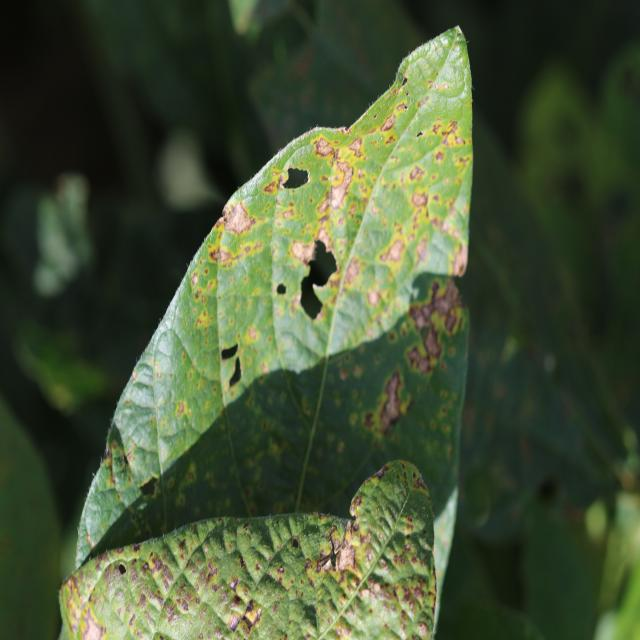Bacterial_Blight: (371, 571, 429, 618), (415, 389, 458, 445), (376, 369, 409, 435), (429, 278, 463, 323), (229, 595, 264, 636), (381, 225, 408, 275), (171, 459, 200, 505), (406, 337, 437, 378), (329, 161, 354, 208), (222, 200, 254, 235), (77, 604, 106, 640), (146, 554, 174, 591), (429, 187, 458, 222), (291, 237, 318, 266), (104, 446, 122, 488), (438, 122, 466, 148), (450, 242, 468, 277), (336, 542, 357, 572), (313, 136, 336, 159), (344, 258, 363, 285), (228, 355, 242, 389), (412, 474, 431, 497), (316, 190, 332, 217), (315, 550, 333, 573), (414, 237, 429, 264), (139, 476, 158, 497), (214, 247, 235, 264), (348, 136, 364, 157), (196, 307, 211, 328), (411, 190, 428, 208), (380, 114, 396, 132), (427, 80, 451, 92), (372, 465, 389, 481), (167, 606, 180, 625), (262, 180, 278, 195), (363, 412, 375, 430), (416, 95, 430, 109), (144, 611, 155, 628), (206, 561, 217, 577), (214, 216, 225, 232), (336, 125, 352, 136), (359, 531, 371, 545), (176, 401, 186, 417), (364, 547, 374, 563), (276, 282, 287, 296), (434, 150, 445, 163), (228, 577, 239, 590), (359, 587, 370, 600), (232, 593, 243, 606), (248, 327, 258, 341), (139, 593, 148, 608), (372, 581, 382, 594), (352, 495, 362, 508), (239, 555, 247, 570), (178, 538, 186, 552), (128, 613, 136, 626), (191, 273, 198, 286), (141, 561, 150, 571), (401, 75, 409, 86), (133, 543, 141, 552), (277, 565, 284, 574), (304, 632, 311, 640), (416, 131, 424, 138), (373, 113, 379, 120), (159, 634, 165, 640), (412, 472, 417, 479)
Soybean: (59, 28, 473, 640)
